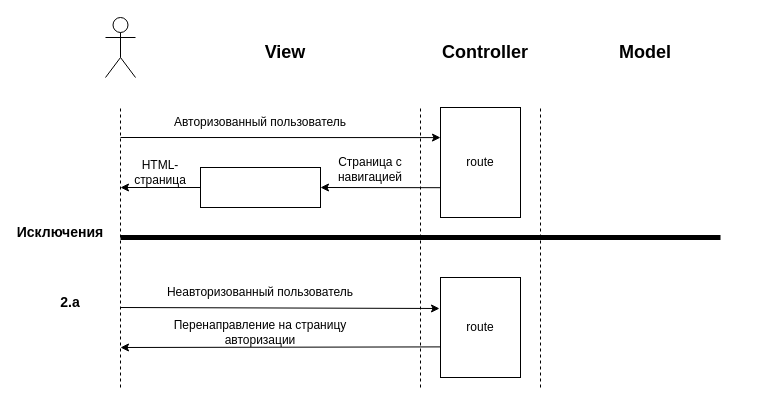
The diagram is 758 pixels wide and 406 high, and some of its shapes have lost their labels. Each missing label, with the centre of its shape:
main_menu.html: (260,187)
Пользователь: (120,47)
